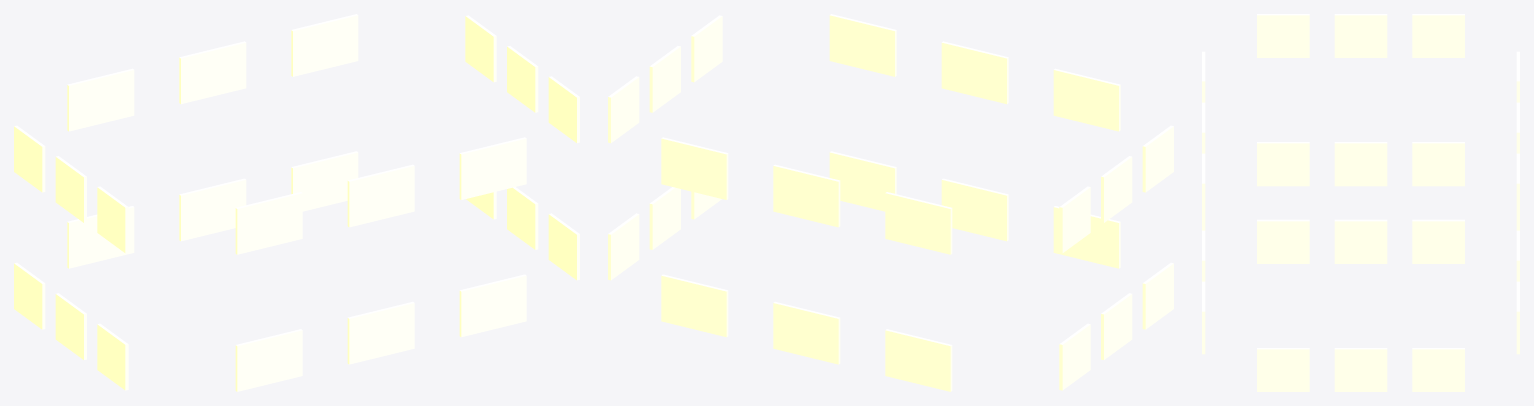
Rendered from building-j.glb.
The picture shows the model from 3 angles, left to right: view 1: azimuth 30°, elevation 25°; view 2: azimuth 150°, elevation 25°; view 3: azimuth 270°, elevation 25°; orthographic projection. The views are drawn at different scales.
Parts seen in each view (by area): view 1: WindowLight_back_1_1, WindowLight_front_0_1, WindowLight_front_1_2, WindowLight_back_1_2, WindowLight_front_0_0, WindowLight_back_1_0, WindowLight_front_0_2, WindowLight_front_1_0, WindowLight_front_1_1, WindowLight_back_0_1, WindowLight_back_0_2, WindowLight_back_0_0 (+12 smaller); view 2: WindowLight_back_0_1, WindowLight_back_1_2, WindowLight_front_1_1, WindowLight_back_0_0, WindowLight_front_1_2, WindowLight_back_0_2, WindowLight_back_1_0, WindowLight_back_1_1, WindowLight_front_1_0, WindowLight_front_0_1, WindowLight_front_0_2, WindowLight_front_0_0 (+12 smaller); view 3: WindowLight_left_0_1, WindowLight_right_1_1, WindowLight_left_0_0, WindowLight_left_0_2, WindowLight_right_1_0, WindowLight_right_1_2, WindowLight_left_1_1, WindowLight_right_0_1, WindowLight_left_1_0, WindowLight_left_1_2, WindowLight_right_0_0, WindowLight_right_0_2 (+4 smaller).
Boxes of the visible parts, <box> form: WindowLight_back_1_1: <box>179,41,246,104</box>; WindowLight_front_0_1: <box>347,301,414,364</box>; WindowLight_front_1_2: <box>459,137,526,199</box>; WindowLight_back_1_2: <box>291,14,358,76</box>; WindowLight_front_0_0: <box>235,329,302,391</box>; WindowLight_back_1_0: <box>67,68,134,131</box>; WindowLight_front_0_2: <box>459,274,526,337</box>; WindowLight_front_1_0: <box>235,192,302,254</box>; WindowLight_front_1_1: <box>347,164,414,227</box>; WindowLight_back_0_1: <box>179,178,246,241</box>; WindowLight_back_0_2: <box>291,151,358,211</box>; WindowLight_back_0_0: <box>67,206,134,268</box>; WindowLight_back_0_1: <box>773,301,840,364</box>; WindowLight_back_1_2: <box>661,137,728,199</box>; WindowLight_front_1_1: <box>941,41,1008,104</box>; WindowLight_back_0_0: <box>885,329,952,391</box>; WindowLight_front_1_2: <box>829,14,896,76</box>; WindowLight_back_0_2: <box>661,274,728,337</box>; WindowLight_back_1_0: <box>885,192,952,254</box>; WindowLight_back_1_1: <box>773,164,840,227</box>; WindowLight_front_1_0: <box>1053,68,1120,131</box>; WindowLight_front_0_1: <box>941,178,1008,241</box>; WindowLight_front_0_2: <box>829,151,896,211</box>; WindowLight_front_0_0: <box>1053,206,1120,268</box>; WindowLight_left_0_1: <box>1334,142,1387,186</box>; WindowLight_right_1_1: <box>1334,219,1387,263</box>; WindowLight_left_0_0: <box>1257,142,1309,186</box>; WindowLight_left_0_2: <box>1412,142,1464,186</box>; WindowLight_right_1_0: <box>1257,219,1309,263</box>; WindowLight_right_1_2: <box>1412,219,1464,263</box>; WindowLight_left_1_1: <box>1334,14,1387,57</box>; WindowLight_right_0_1: <box>1334,348,1387,391</box>; WindowLight_left_1_0: <box>1257,14,1309,57</box>; WindowLight_left_1_2: <box>1412,14,1464,57</box>; WindowLight_right_0_0: <box>1257,348,1309,391</box>; WindowLight_right_0_2: <box>1412,348,1464,391</box>.
Size of the model in its own units: 2.11 by 0.8126 by 1.37.
